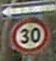limite 30: (10, 17, 49, 53)
